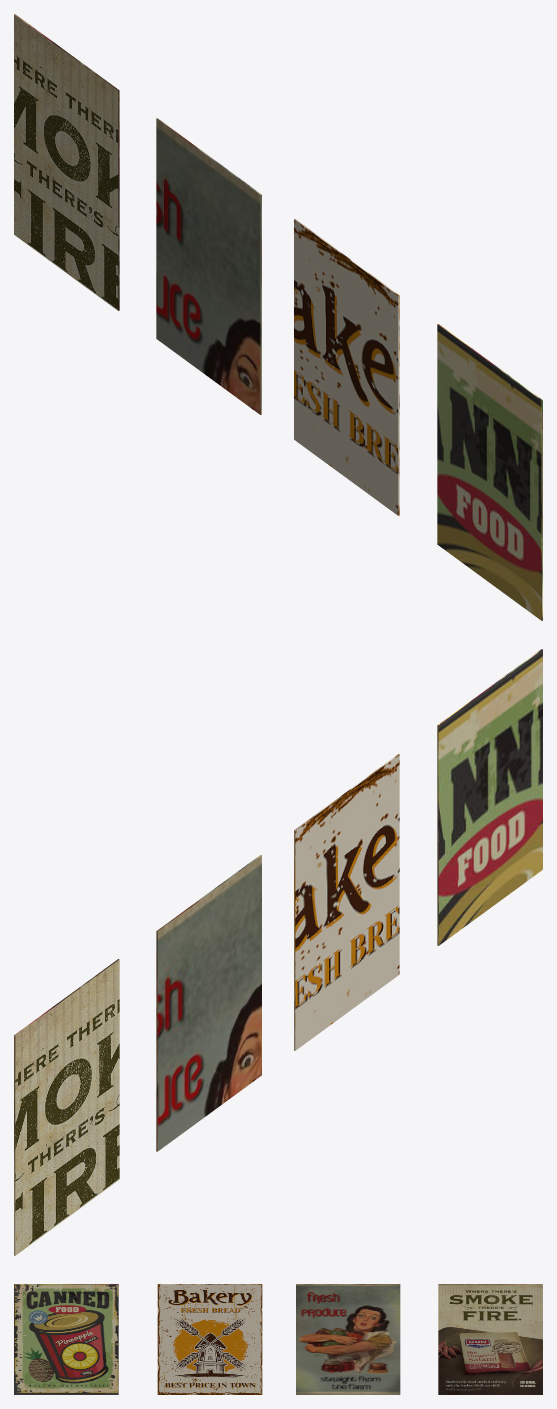
File: posters.fbx
The picture shows the model from 3 angles, top to bottom: view 1: azimuth 30°, elevation 25°; view 2: azimuth 150°, elevation 25°; view 3: azimuth 270°, elevation 25°; orthographic projection. The views are drawn at different scales.
Visible parts, largest first — view 1: poster_1, poster_2, poster_3, poster_4; view 2: poster_1, poster_2, poster_3, poster_4; view 3: poster_3, poster_1, poster_2, poster_4.
Boxes of the visible parts, x1,y1,x2,y2 form: poster_1: [14, 14, 119, 310]; poster_2: [156, 118, 261, 414]; poster_3: [294, 219, 399, 515]; poster_4: [437, 324, 542, 620]; poster_1: [14, 959, 119, 1255]; poster_2: [156, 855, 261, 1151]; poster_3: [294, 754, 399, 1050]; poster_4: [437, 649, 542, 945]; poster_3: [157, 1284, 262, 1394]; poster_1: [438, 1284, 542, 1394]; poster_2: [296, 1284, 400, 1394]; poster_4: [14, 1284, 118, 1394].
Bounding box in the file's own units: 0.0167 × 12.06 × 2.78.
Materials: 4 (4 with a texture image).
